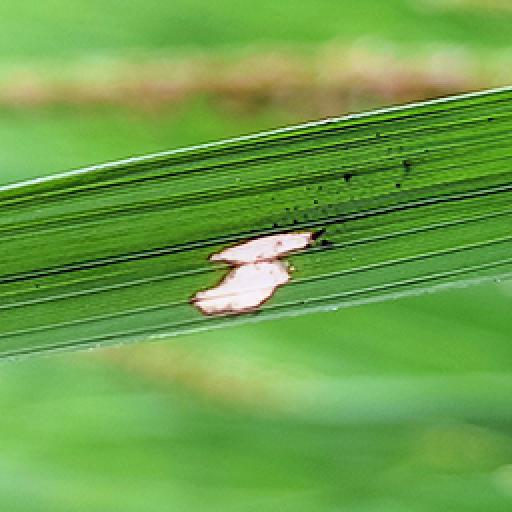Bacterial Leaf Blight: (160, 206, 350, 328)
